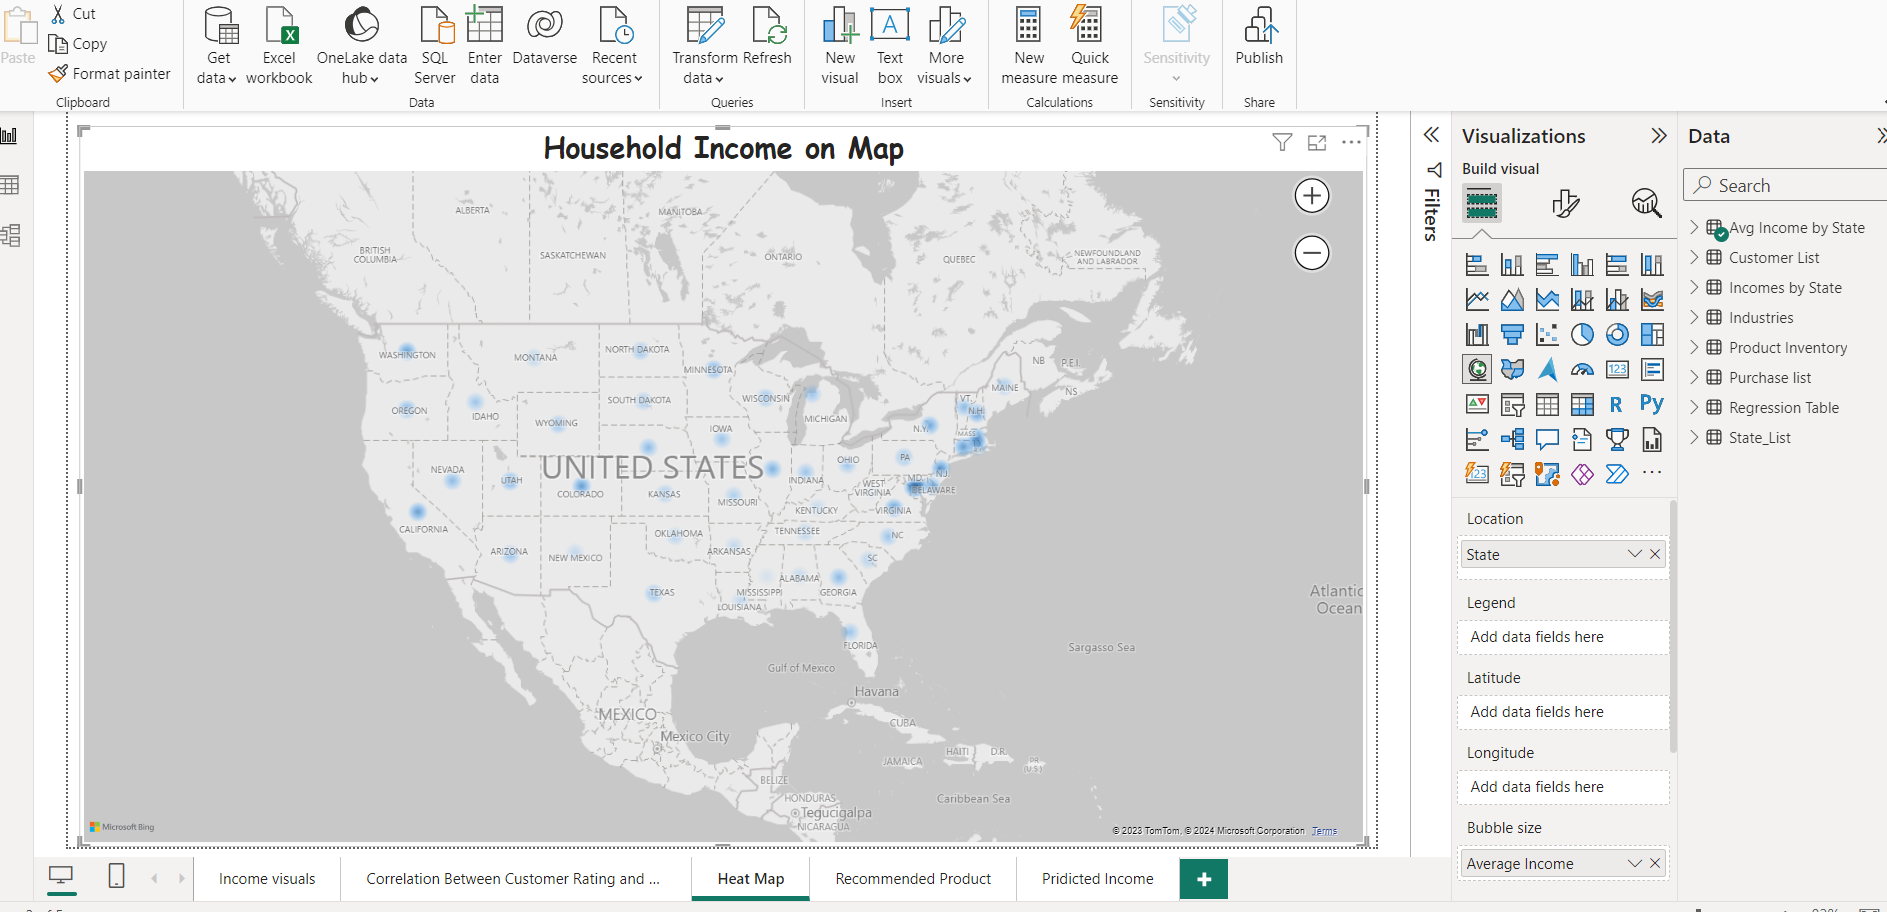

This screenshot's page, from the dashboard's own definition file:
{"tool":"powerbi","page":{"name":"Heat Map","canvas":[1280,720],"ordinal":2},"visuals":[{"type":"map","title":"Household Income on Map","fields":{"Category":["Avg Income by State.State"],"Size":["Sum(Avg Income by State.Average Income)"]},"box":[11,14.7,1260.3,705.3],"z":0}]}

Visuals, with their boxes on the page's 1280x720 design canvas (x1, y1, x2, y2). These are canvas units, not pixel positions in the 1887x912 screenshot, which may show the page scaled, cropped or inside an application window:
"Household Income on Map" map: box(11, 15, 1271, 720)
